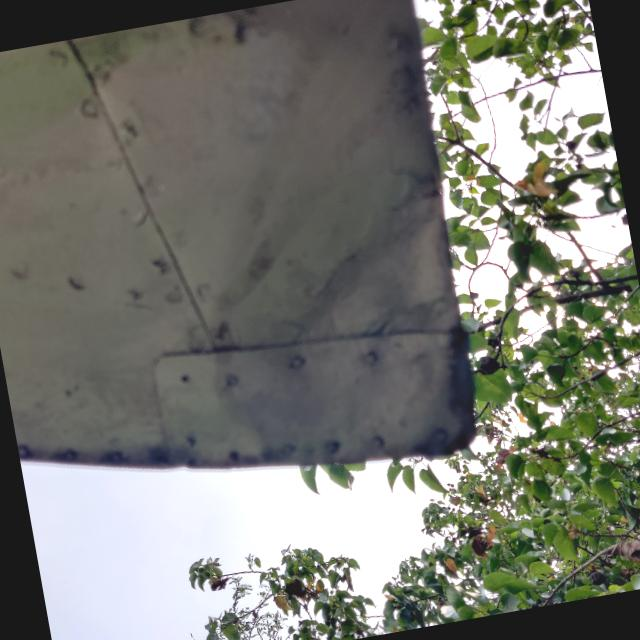dent: (250, 156, 492, 388)
